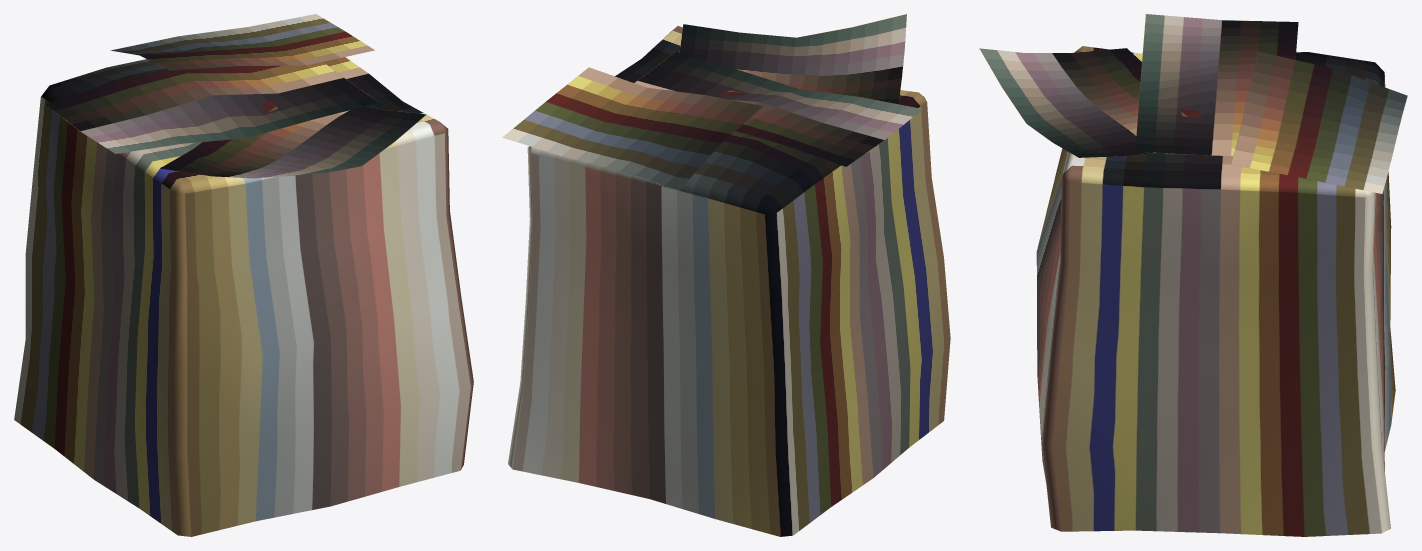
File: MSH_Building_007.glb
3 renders of one model, left to right at view 1: azimuth 30°, elevation 25°; view 2: azimuth 150°, elevation 25°; view 3: azimuth 270°, elevation 25°, orthographic. The views are drawn at different scales.
Parts seen in each view (by area): view 1: Base.013; view 2: Base.013; view 3: Base.013.
Boxes of the visible parts, x1,y1,x2,y2 form: Base.013: (14,14,473,536); Base.013: (502,14,950,536); Base.013: (979,14,1407,536).
Bounding box in the file's own units: 5.56 × 6.23 × 6.34.
Materials: 1 (1 with a texture image).
